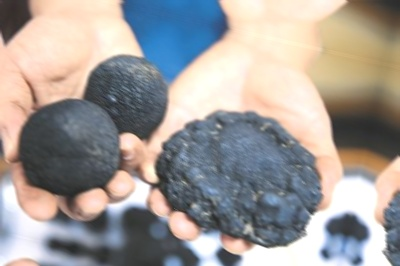halobolite: (145, 90, 350, 260), (15, 97, 123, 214), (80, 44, 174, 139)
